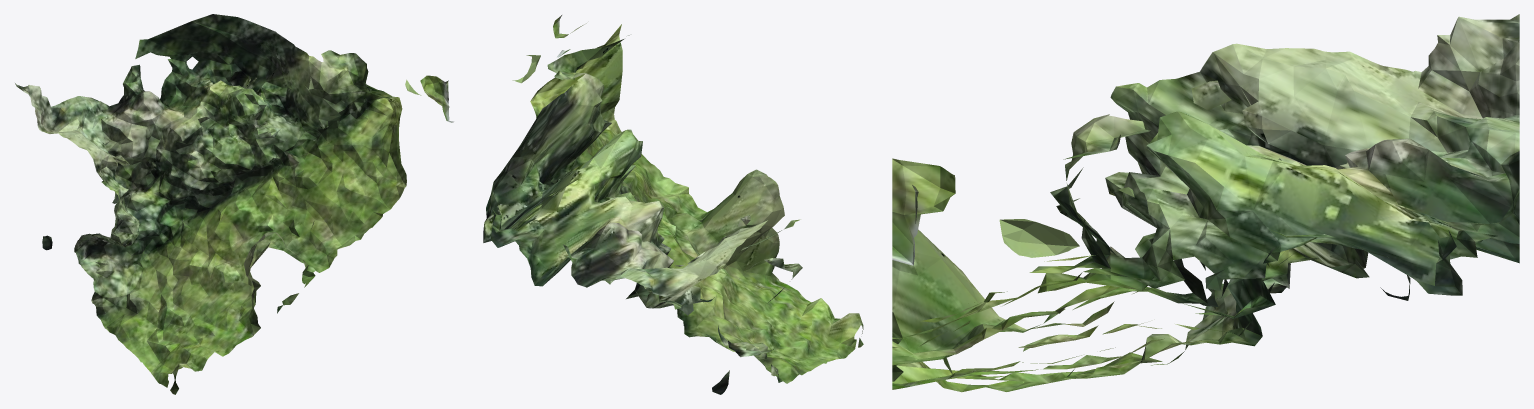
3 renders of one model, left to right at view 1: azimuth 30°, elevation 25°; view 2: azimuth 150°, elevation 25°; view 3: azimuth 270°, elevation 25°, orthographic. The views are drawn at different scales.
Bounding box in the file's own units: 26.11 × 21.73 × 26.11.
4 materials, 4 textured.
